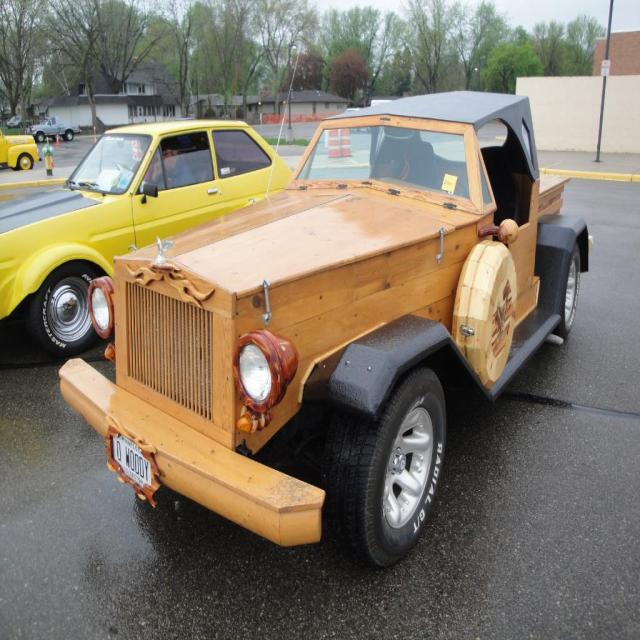car: (57, 44, 596, 571), (26, 113, 80, 144)
